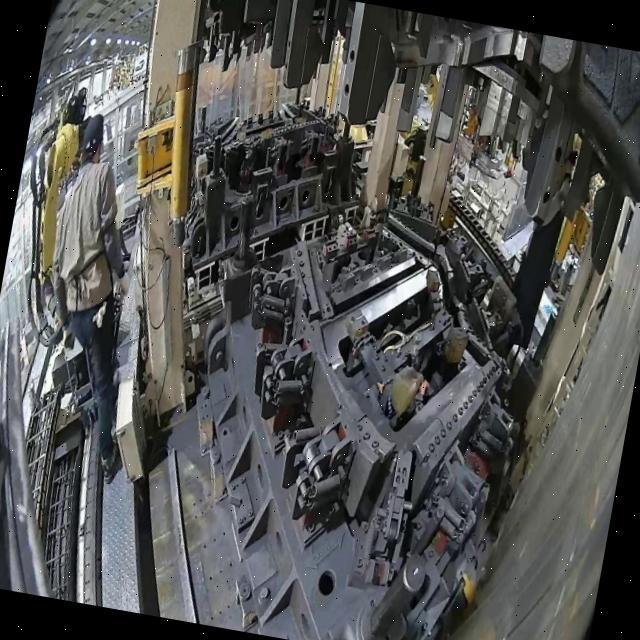Person: (12, 109, 182, 486)
